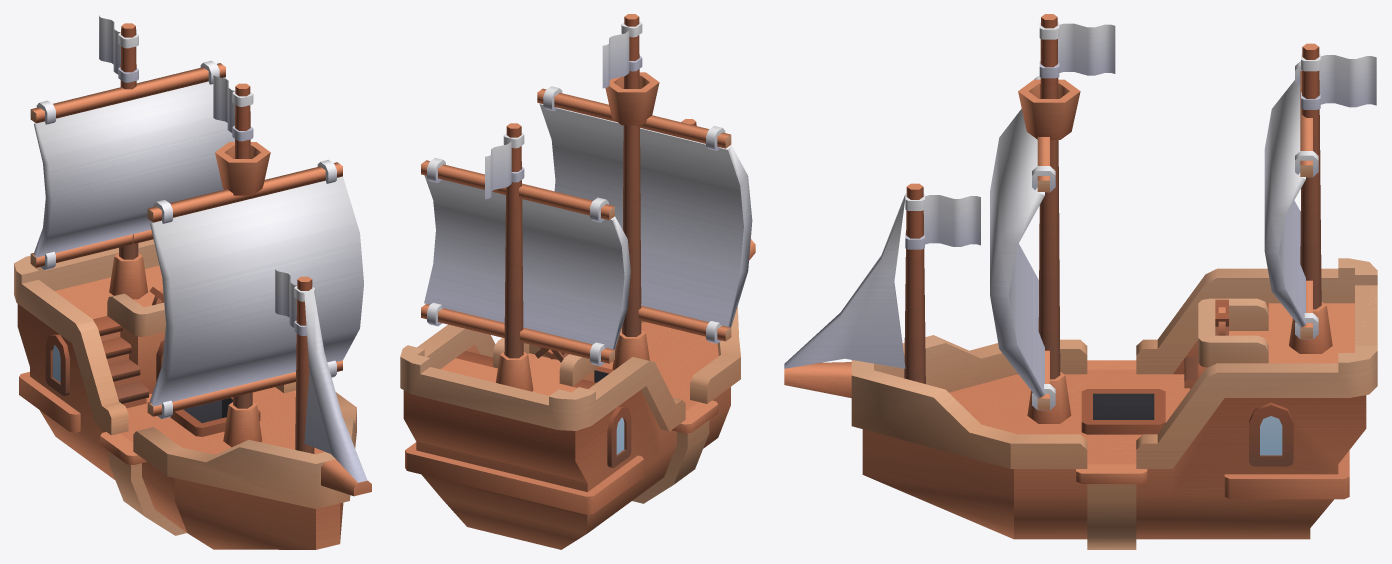
The model's file is ship-small.glb.
The picture shows the model from 3 angles, left to right: view 1: azimuth 30°, elevation 25°; view 2: azimuth 150°, elevation 25°; view 3: azimuth 270°, elevation 25°; orthographic projection. The views are drawn at different scales.
Visible parts, largest first — view 1: ship-small; view 2: ship-small; view 3: ship-small.
Part boxes in pixels (x1,y1,x2,y2): ship-small: [14, 15, 371, 549]; ship-small: [400, 14, 755, 549]; ship-small: [784, 14, 1377, 549].
Bounding box in the file's own units: 4.8 × 9.96 × 10.6.
1 material, 1 textured.
